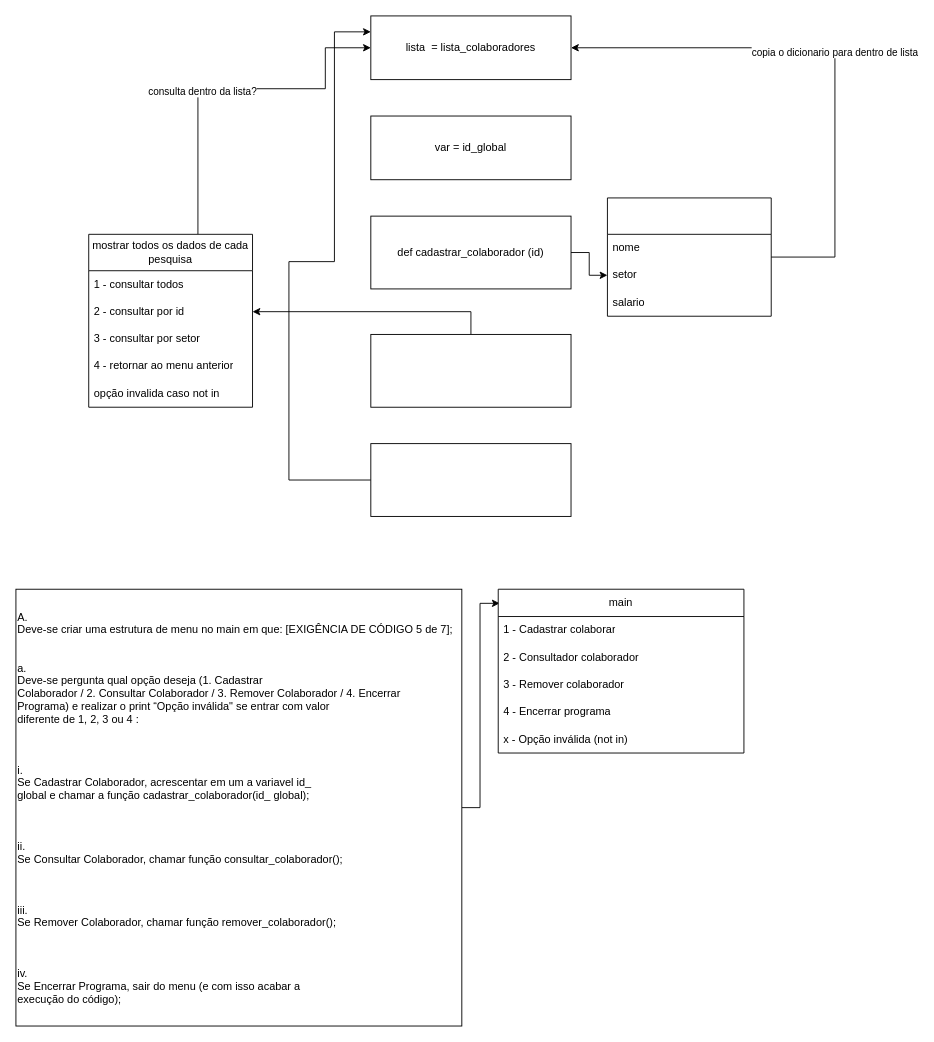
Some shapes in this 934 by 1042 pixel diagram are drawn without their labels. Here are the shapes that lost their labels. From the top down, the box of each, then its label:
(607, 197, 771, 316): armazena dentro de um dicionario
(370, 334, 571, 407): def consultar_colaborador (id)
(370, 443, 571, 516): def remover_colaborador(id) - pergunta pelo id e remove da lista
